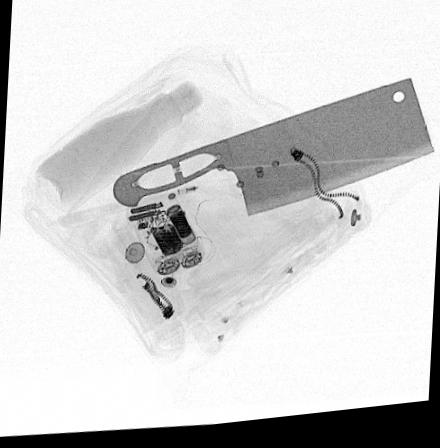Knife: (110, 84, 436, 223)
